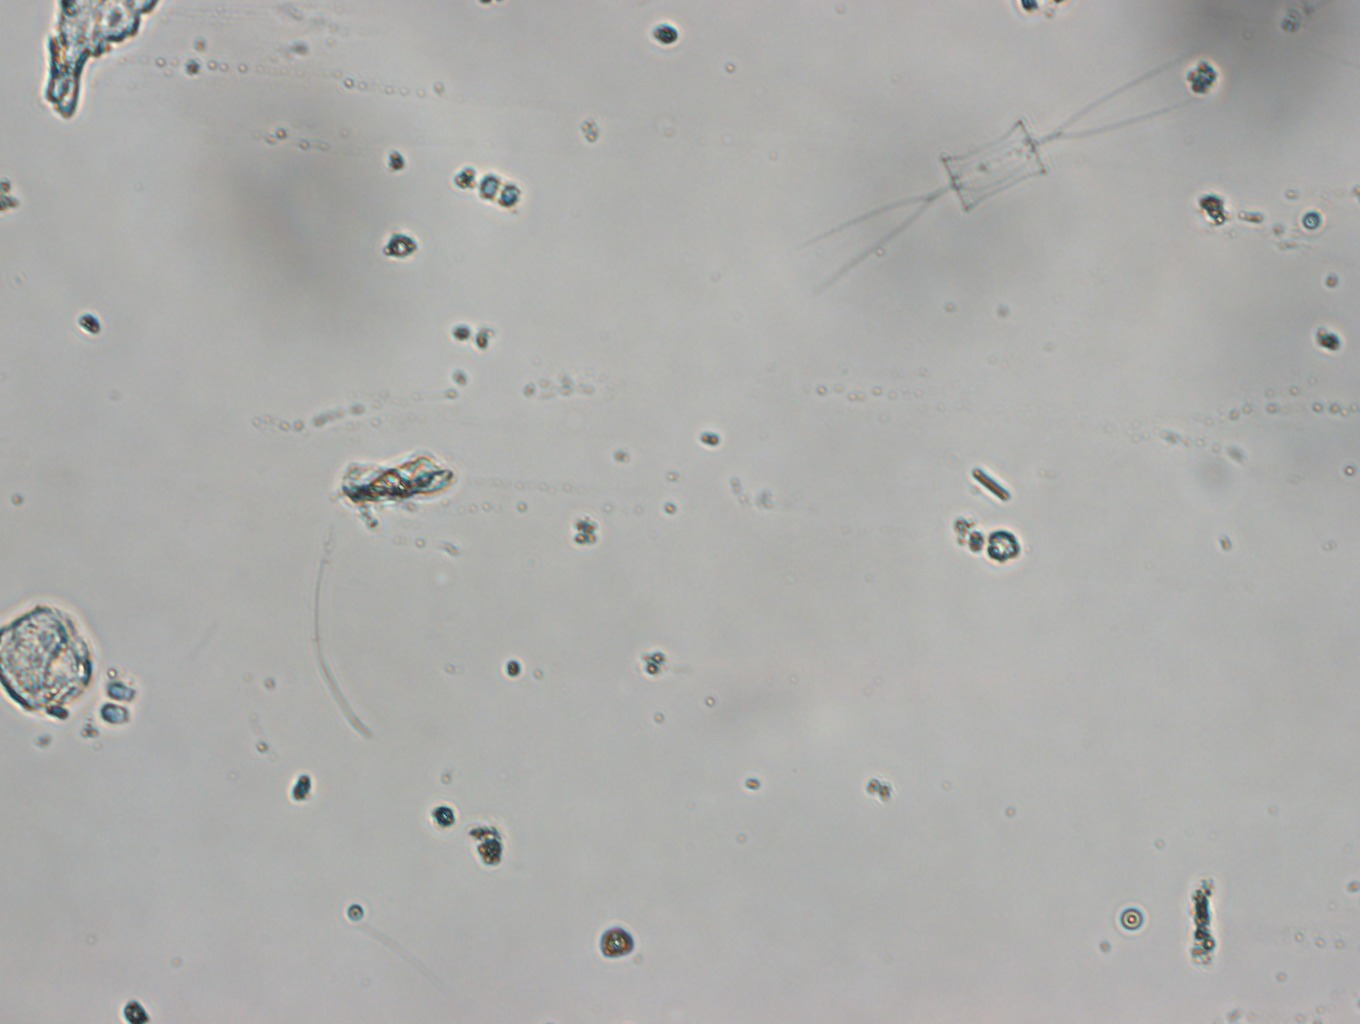chaetoceros: (810, 66, 1182, 295)
